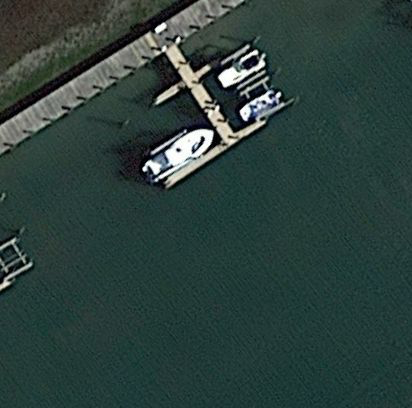boat: (145, 128, 216, 185), (217, 51, 267, 91), (240, 91, 285, 126)
